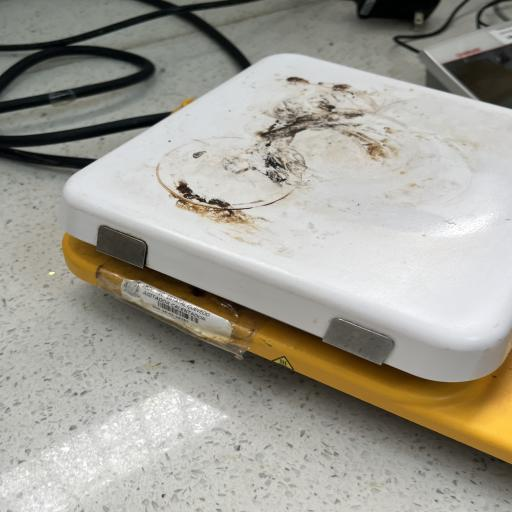Plancha_Agitacion_Cimarec: (45, 44, 512, 475)
